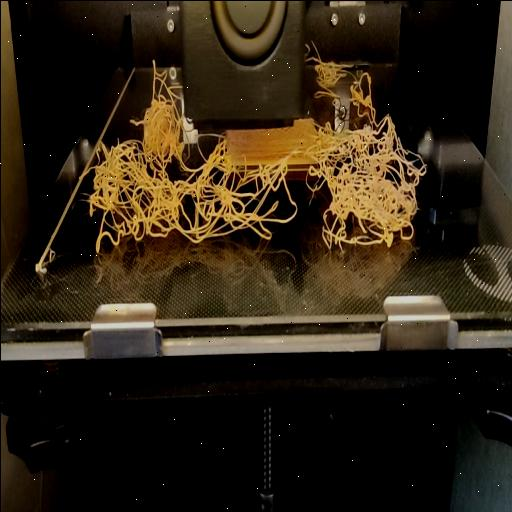spaghetti: (79, 125, 429, 265), (304, 37, 396, 129), (130, 62, 182, 130)
